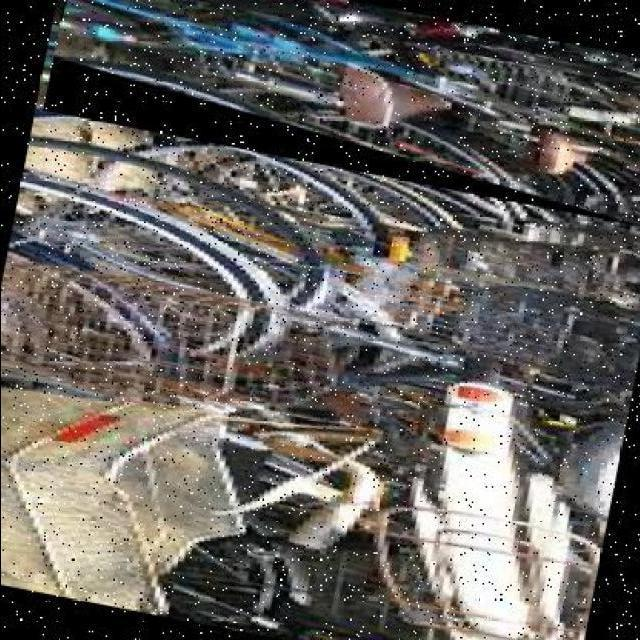bicycle: (41, 1, 640, 230)
